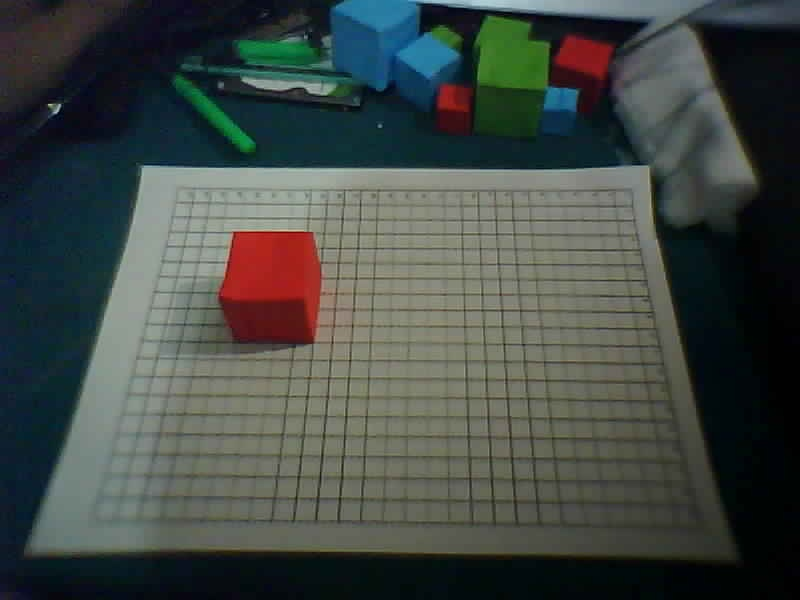LB: (84, 517, 92, 523)
LT: (174, 184, 182, 190)
RB: (693, 524, 701, 530)
RT: (626, 185, 634, 191)
